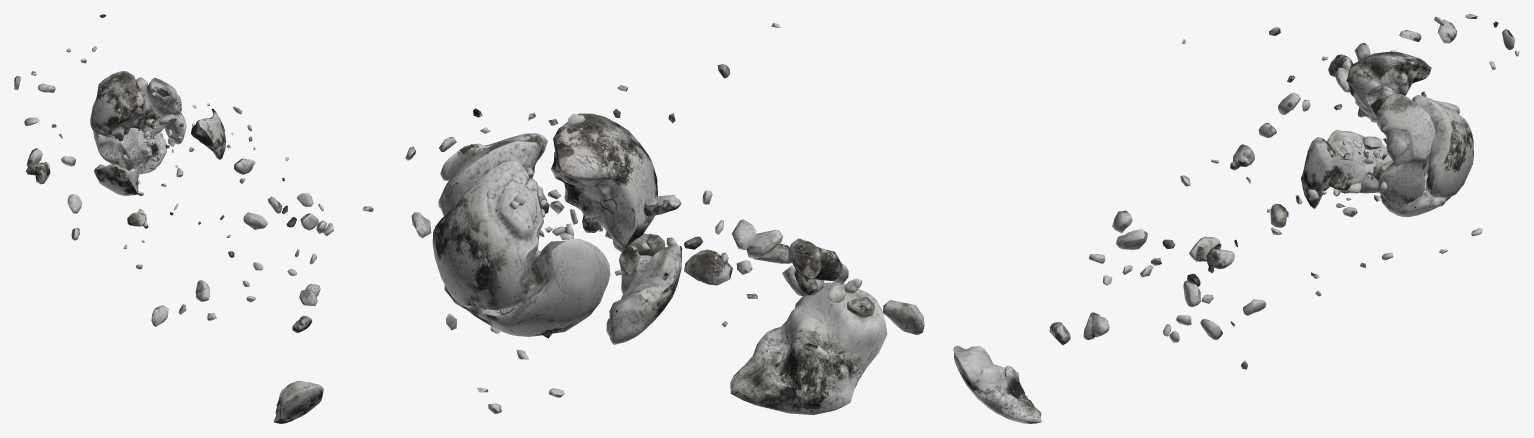
File: Moon.obj
3 views of the same model, side by side, from view 1: azimuth 30°, elevation 25°; view 2: azimuth 150°, elevation 25°; view 3: azimuth 270°, elevation 25° (orthographic). The views are drawn at different scales.
Visible parts, largest first — view 1: SK_Moon_v02.002; view 2: SK_Moon_v02.002; view 3: SK_Moon_v02.002.
Part boxes in pixels (x1=…): SK_Moon_v02.002: x1=14, y1=14, x2=333, y2=423; SK_Moon_v02.002: x1=362, y1=23, x2=924, y2=414; SK_Moon_v02.002: x1=953, y1=14, x2=1519, y2=423.
Bounding box in the file's own units: 235 × 258 × 341.
1 material, 1 textured.
